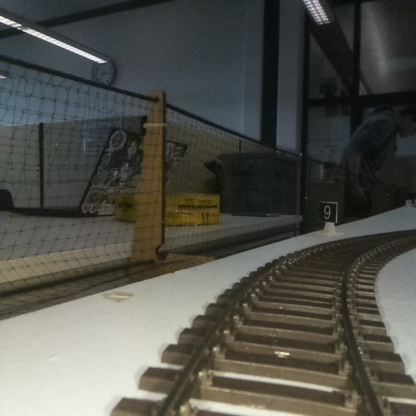black-stop-9: (319, 203, 336, 233)
